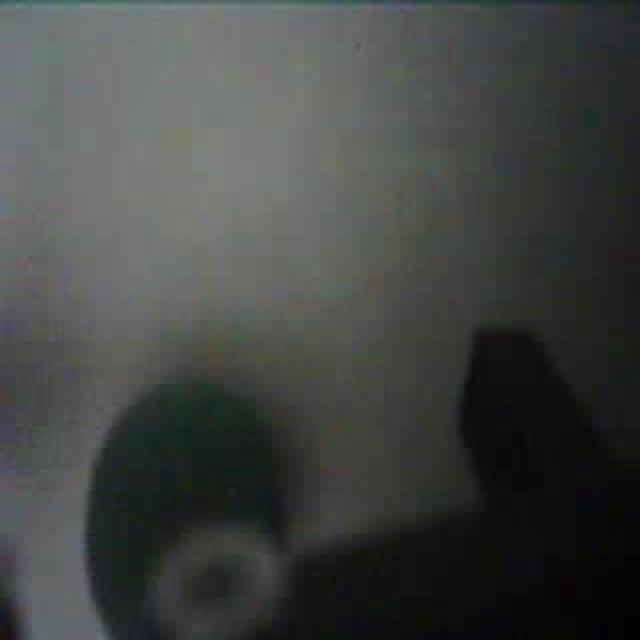green_ball: (80, 371, 300, 637)
